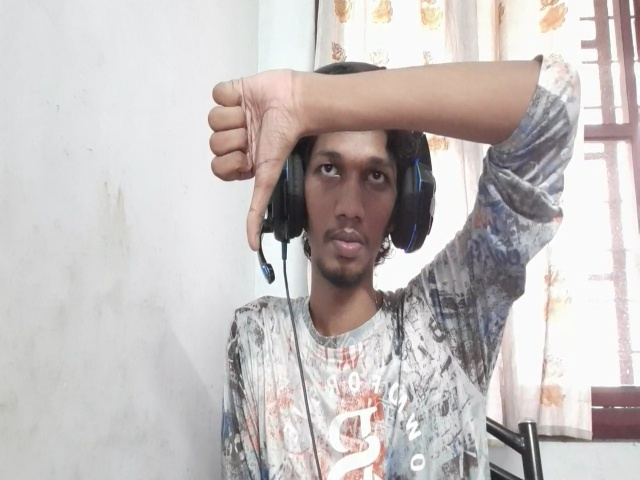ThumbsDown: (208, 68, 300, 251)
